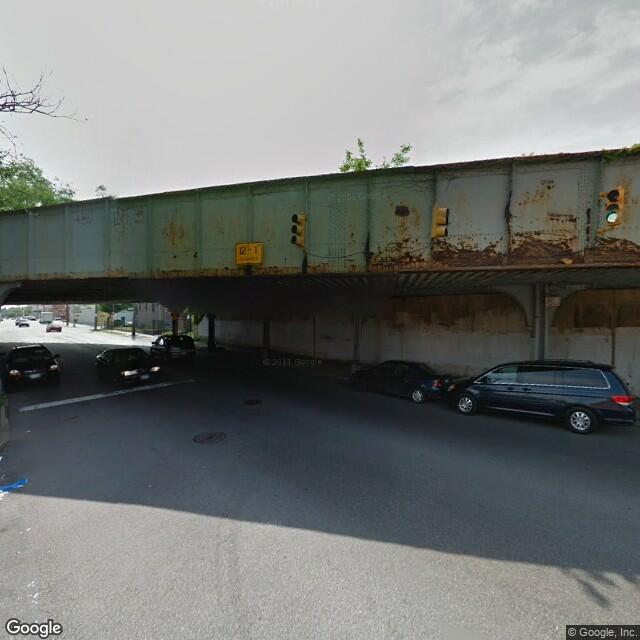litter: (1, 474, 32, 493), (22, 526, 33, 533), (23, 427, 33, 432)
